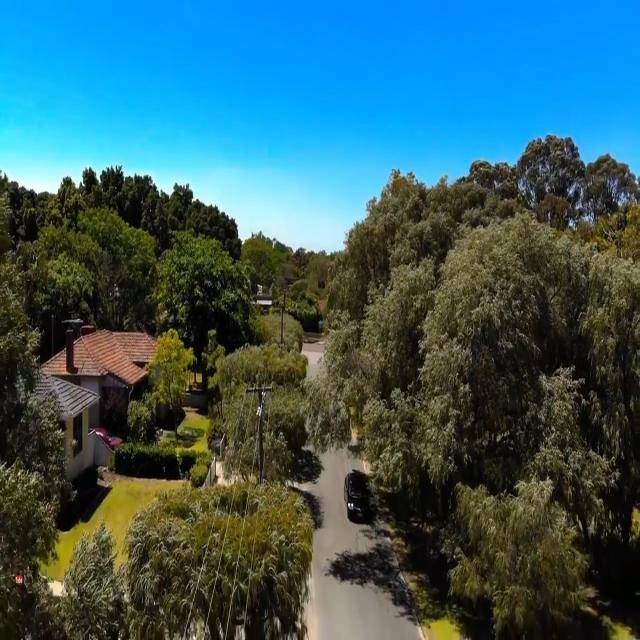Building: (19, 323, 163, 488)
Pole: (256, 376, 268, 485), (276, 304, 288, 346), (282, 290, 288, 313)
Tree: (360, 129, 640, 640), (0, 169, 244, 335), (133, 475, 316, 640), (0, 449, 121, 640), (208, 338, 308, 478), (148, 322, 196, 422)
Vehicle: (339, 466, 374, 530)
